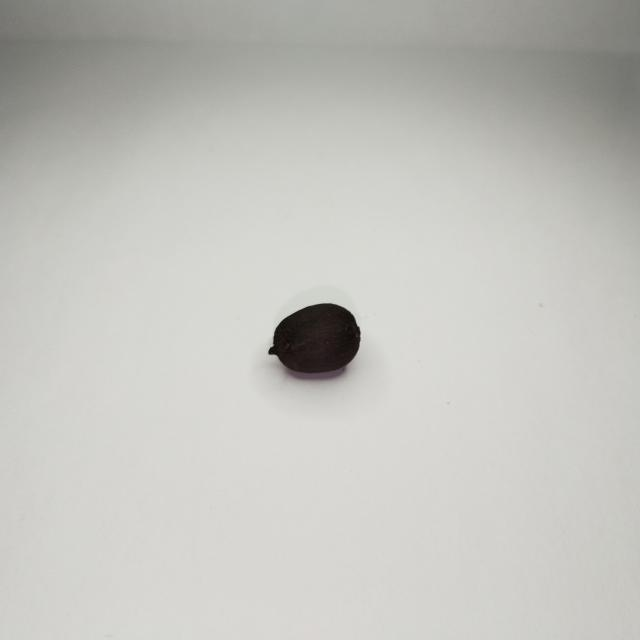Danado: (268, 302, 360, 378)
